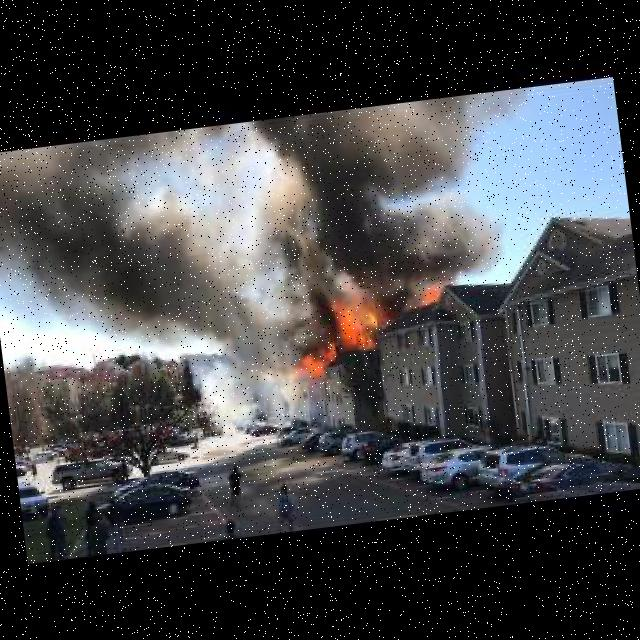fire: (332, 287, 380, 354), (288, 332, 338, 382), (403, 278, 450, 312)
